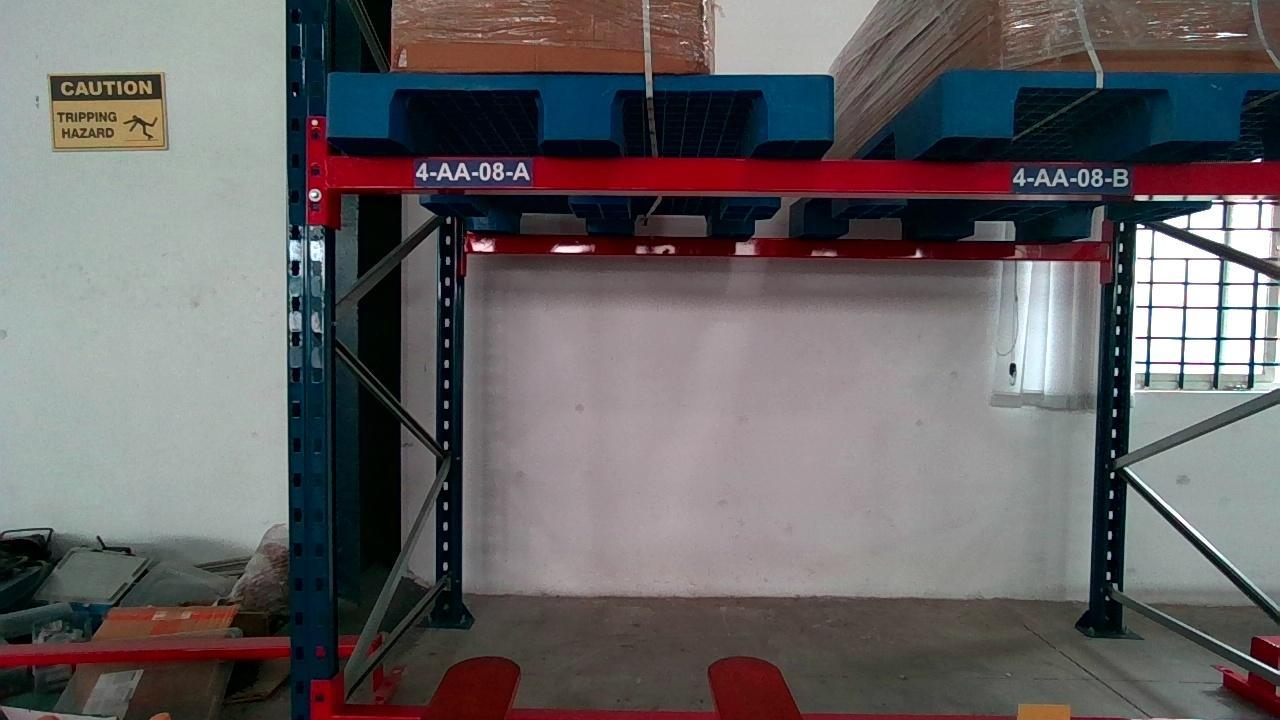h_rack: (326, 159, 1280, 192)
small_pallet: (328, 71, 836, 134), (950, 76, 1280, 134)
